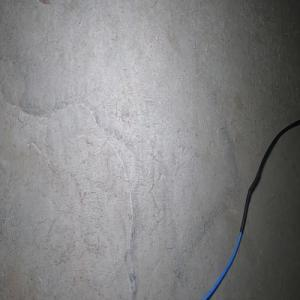Wire: (201, 119, 300, 300)
